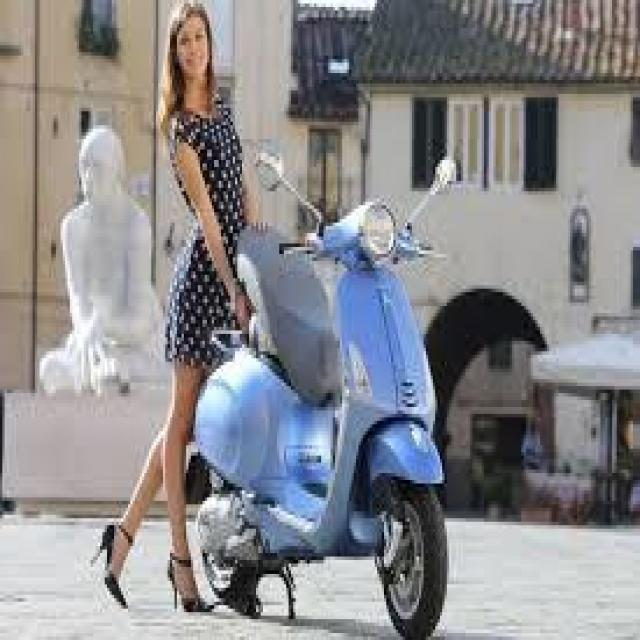person: (107, 0, 244, 619)
